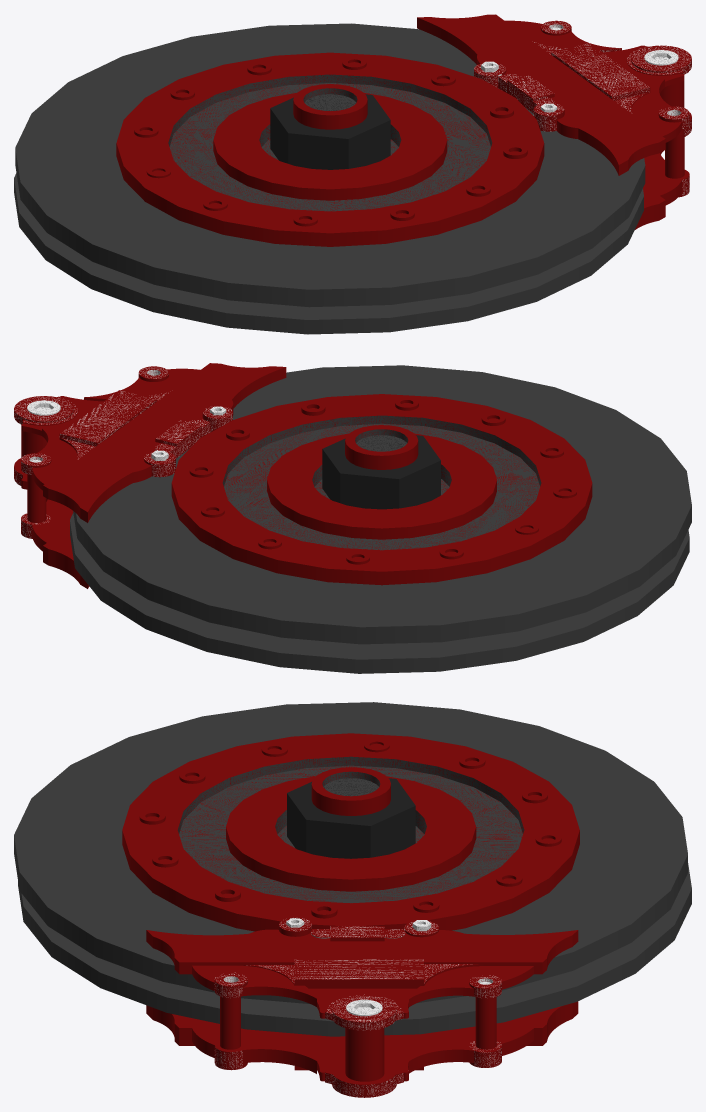
3 views of the same model, one above another, from view 1: azimuth 30°, elevation 25°; view 2: azimuth 150°, elevation 25°; view 3: azimuth 270°, elevation 25° (orthographic). The views are drawn at different scales.
Parts seen in each view (by area): view 1: Component_3 (×12), Component_1 (×2), group_0; view 2: Component_3 (×12), Component_1 (×2), group_0; view 3: Component_3 (×12), Component_1 (×2), group_0.
Boxes of the visible parts, x1=… form: Component_3 (×12): x1=14, y1=23, x2=684, y2=334; Component_1 (×2): x1=417, y1=14, x2=691, y2=229; group_0: x1=116, y1=52, x2=543, y2=233; Component_3 (×12): x1=21, y1=365, x2=691, y2=673; Component_1 (×2): x1=14, y1=363, x2=286, y2=588; group_0: x1=171, y1=394, x2=592, y2=571; Component_3 (×12): x1=14, y1=702, x2=691, y2=1081; Component_1 (×2): x1=146, y1=917, x2=578, y2=1097; group_0: x1=122, y1=733, x2=579, y2=926.
Size of the model in its own units: 693 by 597 by 137.
